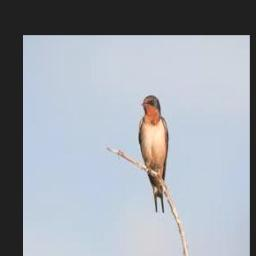Swallow: (139, 95, 168, 212)
